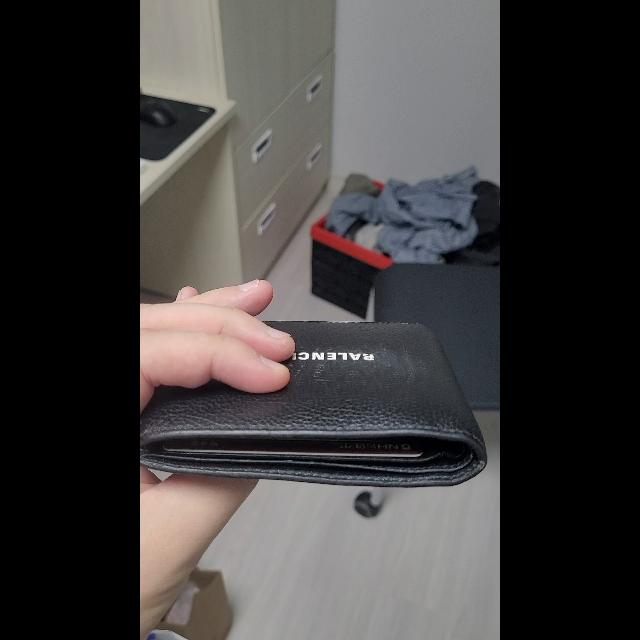WALLET: (140, 321, 488, 487)
